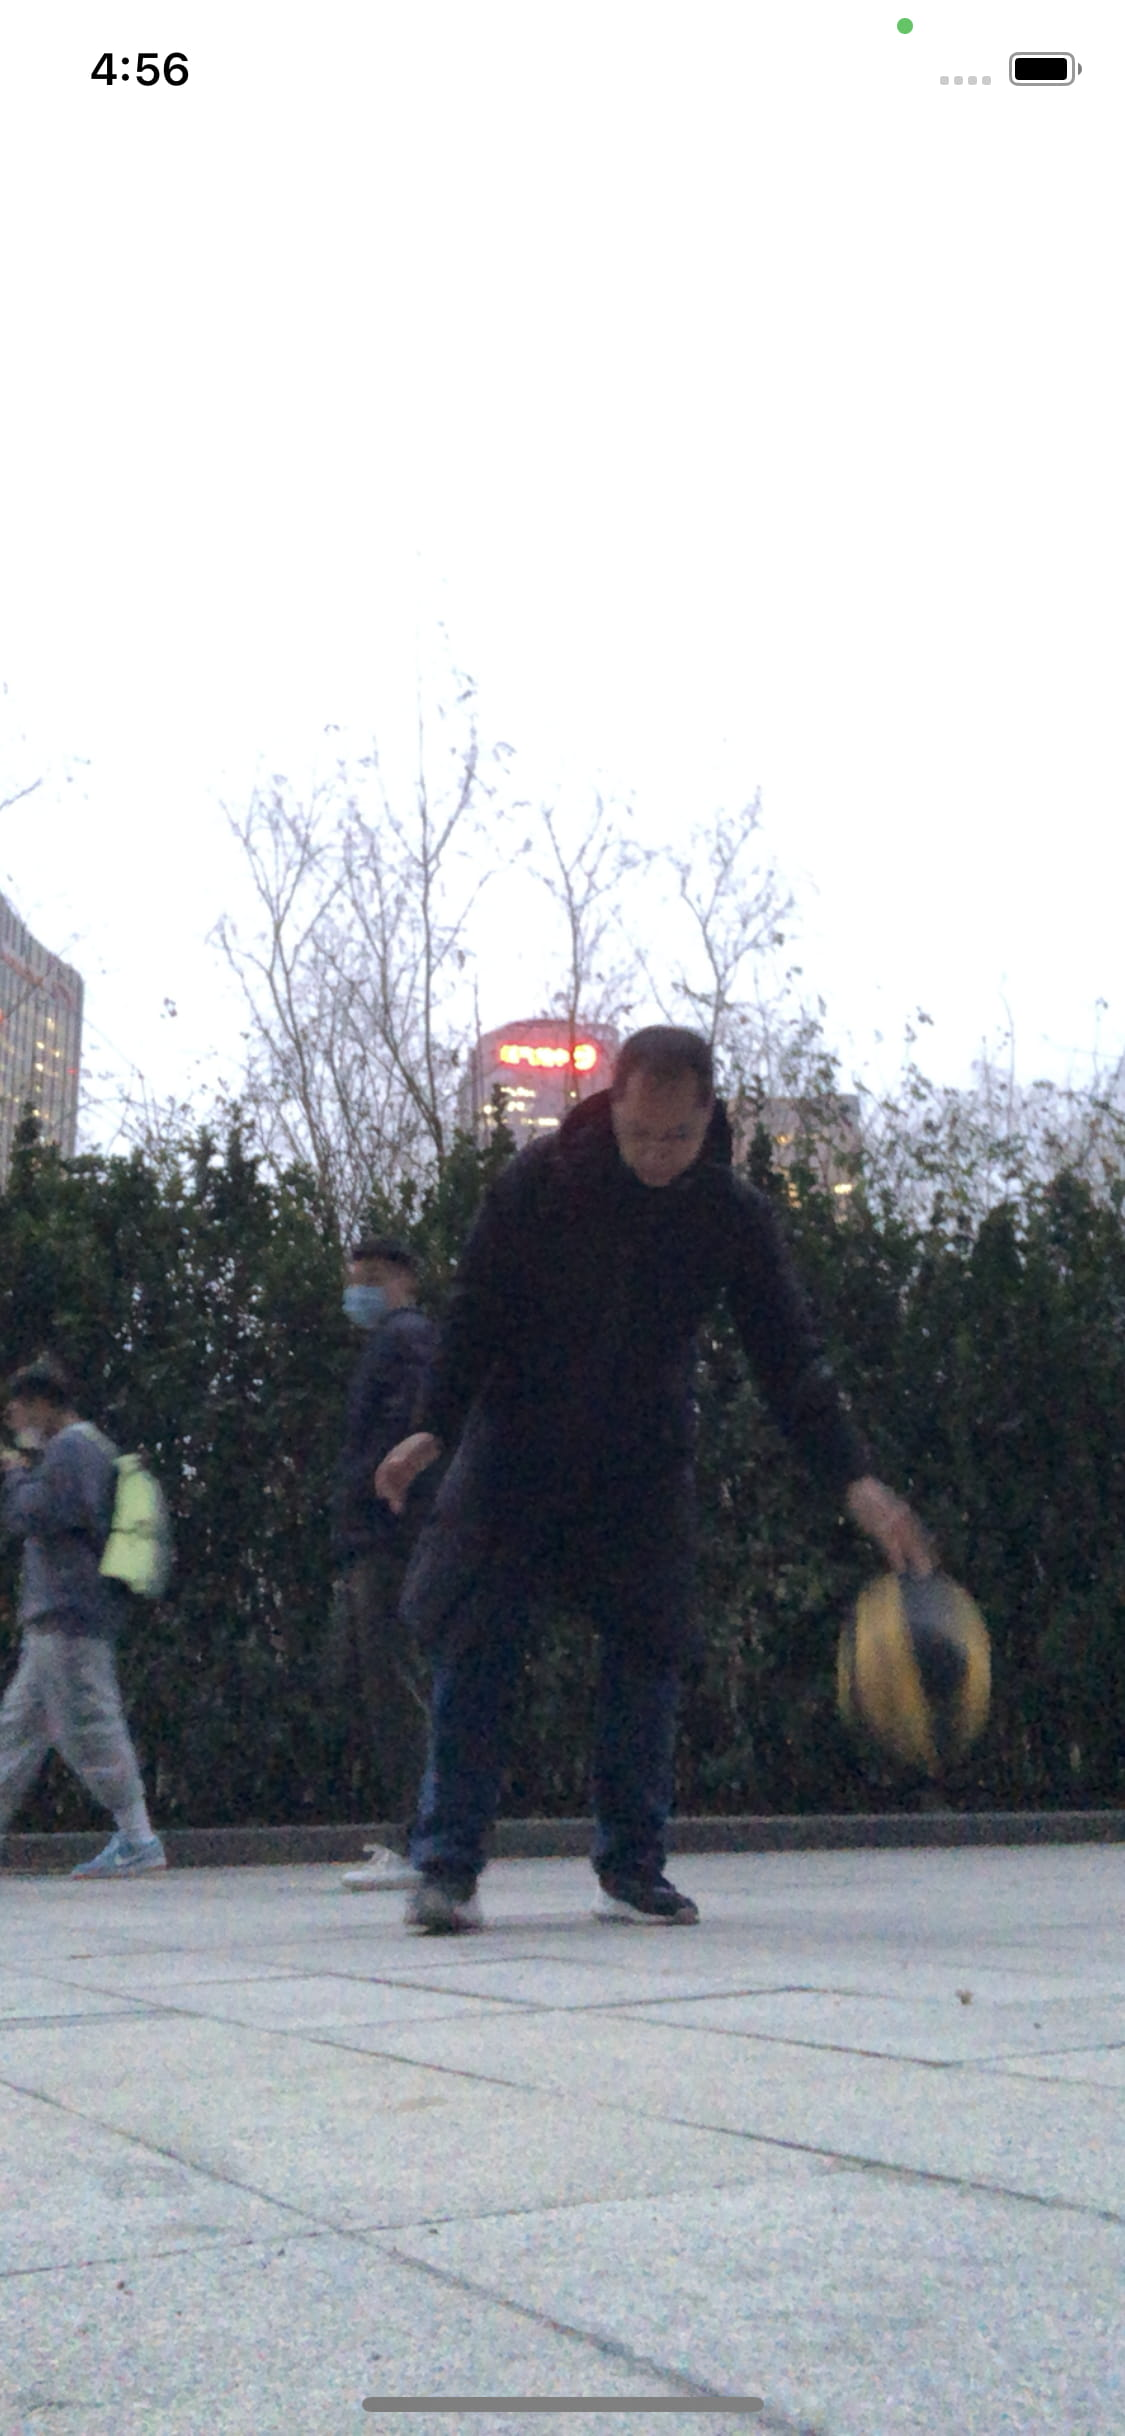ball: (838, 1568, 1004, 1757)
